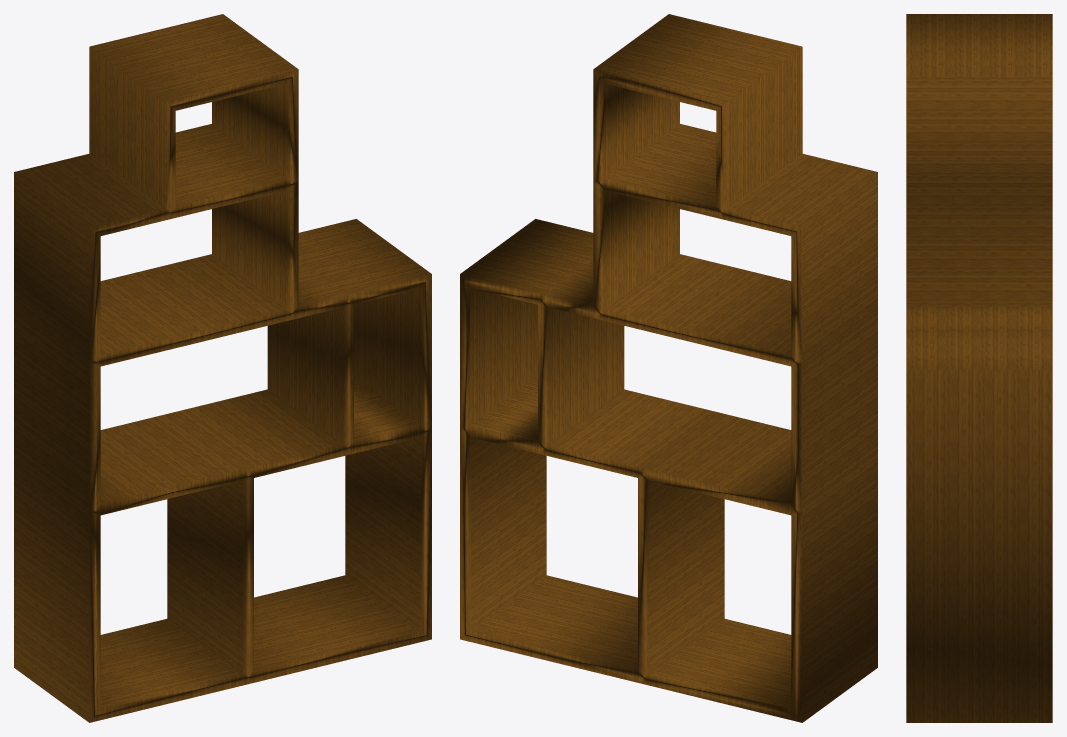
The model's file is Minimal_Shelf__fix.FBX.
The picture shows the model from 3 angles, left to right: view 1: azimuth 30°, elevation 25°; view 2: azimuth 150°, elevation 25°; view 3: azimuth 270°, elevation 25°; orthographic projection. The views are drawn at different scales.
Parts seen in each view (by area): view 1: Minimal_Shelf__1_; view 2: Minimal_Shelf__1_; view 3: Minimal_Shelf__1_.
Part boxes in pixels (bbox=[...]): Minimal_Shelf__1_: bbox=[14, 14, 431, 722]; Minimal_Shelf__1_: bbox=[460, 14, 877, 722]; Minimal_Shelf__1_: bbox=[906, 14, 1052, 722].
Size of what is drawn, in the model's own units: 77 by 29.4 by 130.
Materials: 1 (1 with a texture image).
